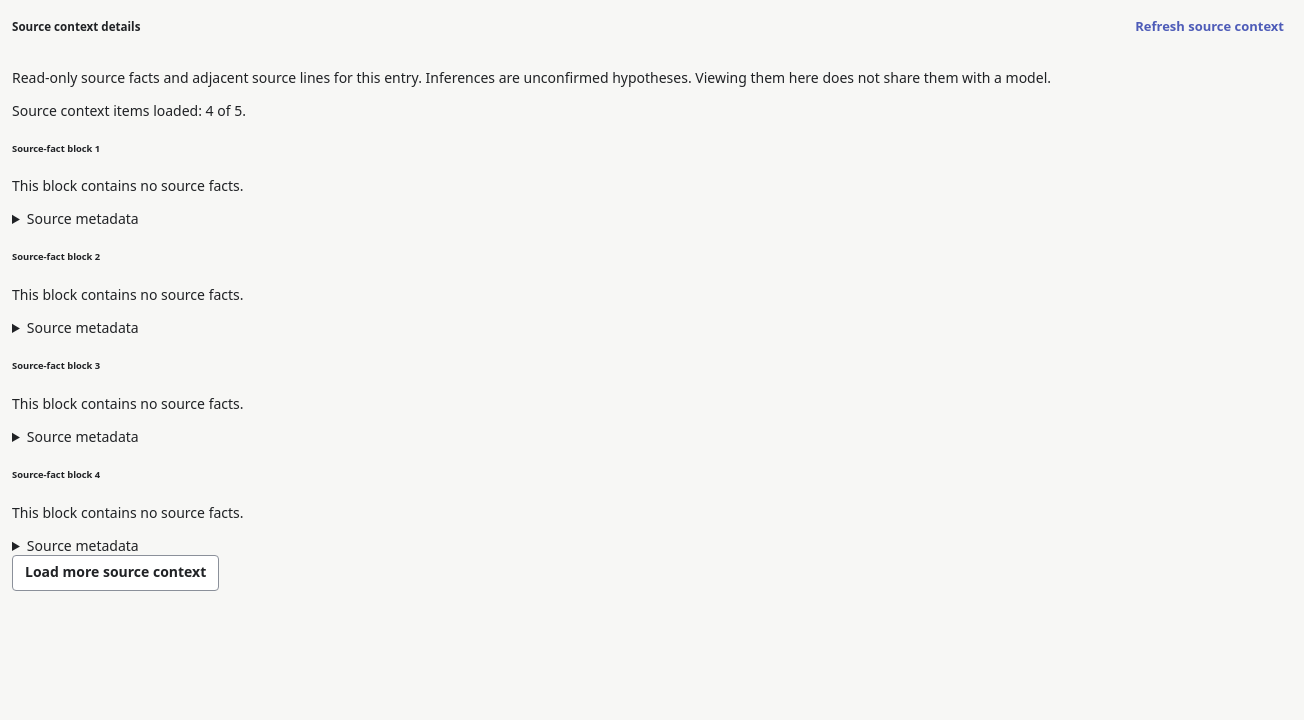
Test: loads bounded pages using the previous cursor and original source basis
expect the text "Source context items loaded: 4 of 5." is shown: met, box [12,101,246,120]
Click the button "Load more source context" at (116, 572), box [12,554,219,590]
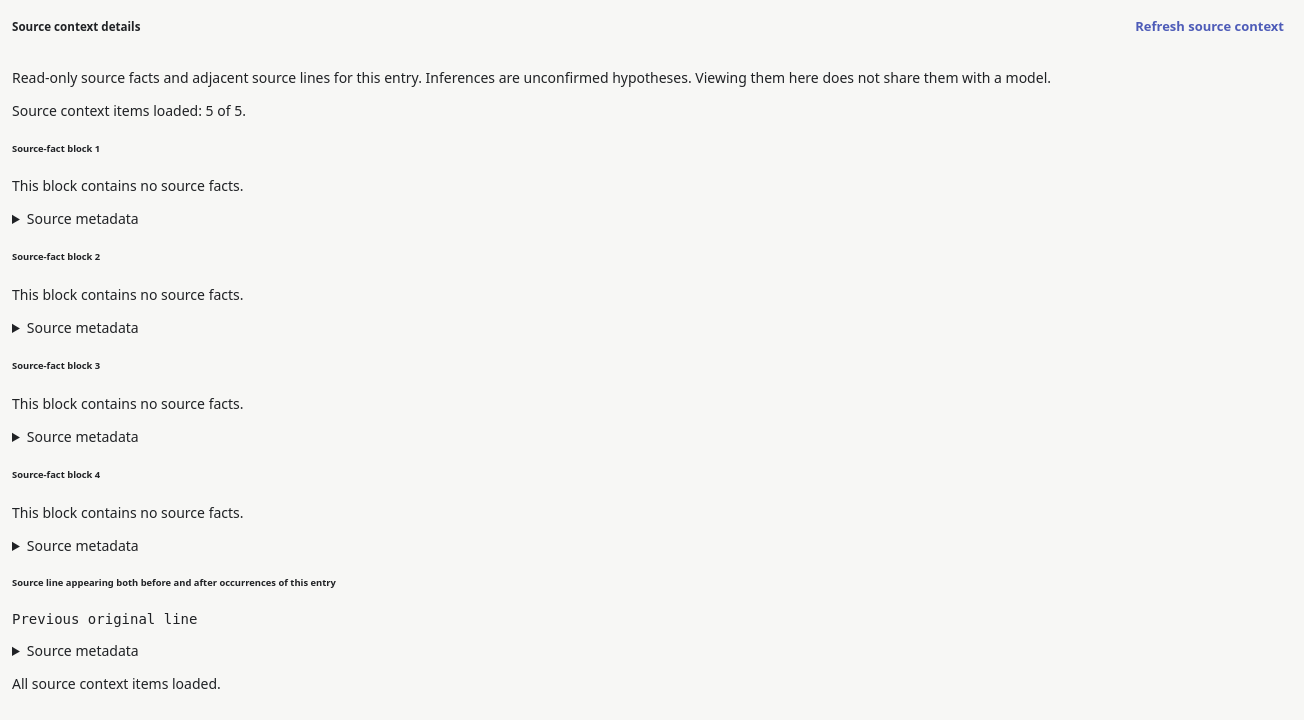
expect the text "Previous original line" is shown: met, box [12,611,197,627]
expect the text "Source context items loaded: 5 of 5." is shown: met, box [12,101,246,120]
